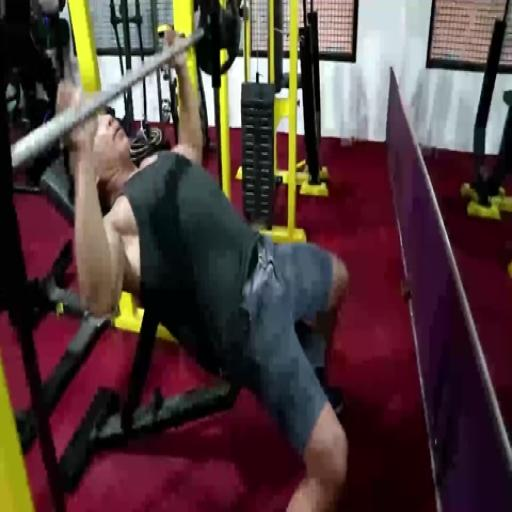exercise: (58, 26, 354, 510)
